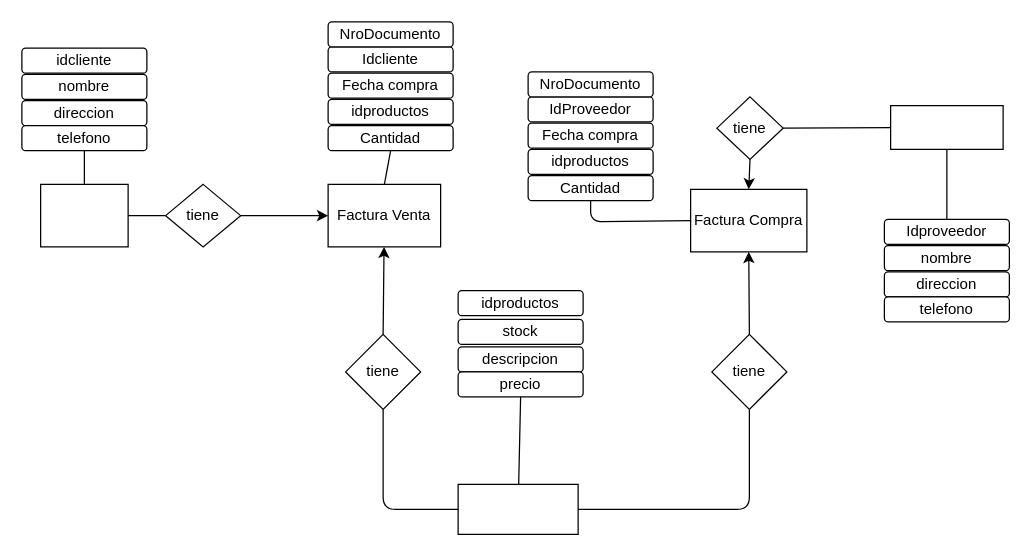
The diagram is 1031 pixels wide and 556 high, and some of its shapes have lost their labels. The centre of each missing label's shape, as x and y in pixels:
"Clientes" goes at (83,215).
"productos" goes at (517,508).
"proveedores" goes at (946,126).
